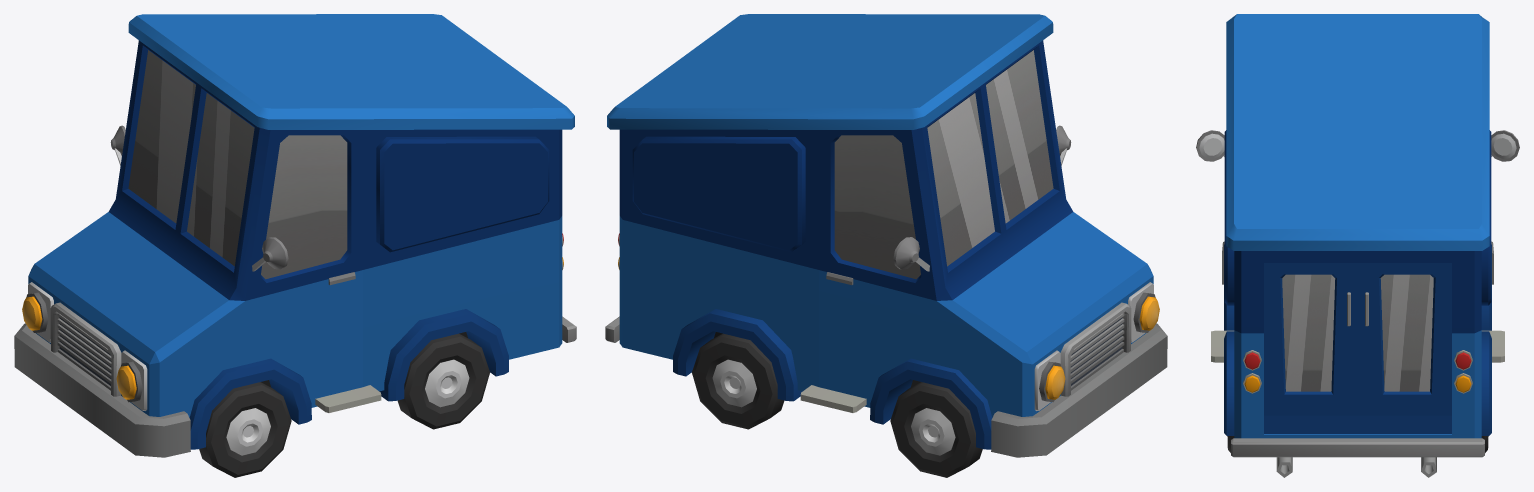
Rendered from Car_15_A.gltf.
3 renders of one model, left to right at view 1: azimuth 30°, elevation 25°; view 2: azimuth 150°, elevation 25°; view 3: azimuth 270°, elevation 25°, orthographic. The views are drawn at different scales.
Parts seen in each view (by area): view 1: Car_15_A, RL, FL; view 2: Car_15_A, RR, FR; view 3: Car_15_A.
Boxes of the visible parts, x1=… form: Car_15_A: x1=14, y1=14, x2=576, y2=457; RL: x1=397, y1=333, x2=489, y2=429; FL: x1=199, y1=382, x2=291, y2=477; Car_15_A: x1=605, y1=14, x2=1167, y2=457; RR: x1=692, y1=333, x2=784, y2=429; FR: x1=890, y1=382, x2=982, y2=477; Car_15_A: x1=1196, y1=14, x2=1519, y2=477.
Bounding box in the file's own units: 2.75 × 2.13 × 1.8.
4 materials, 4 textured.
